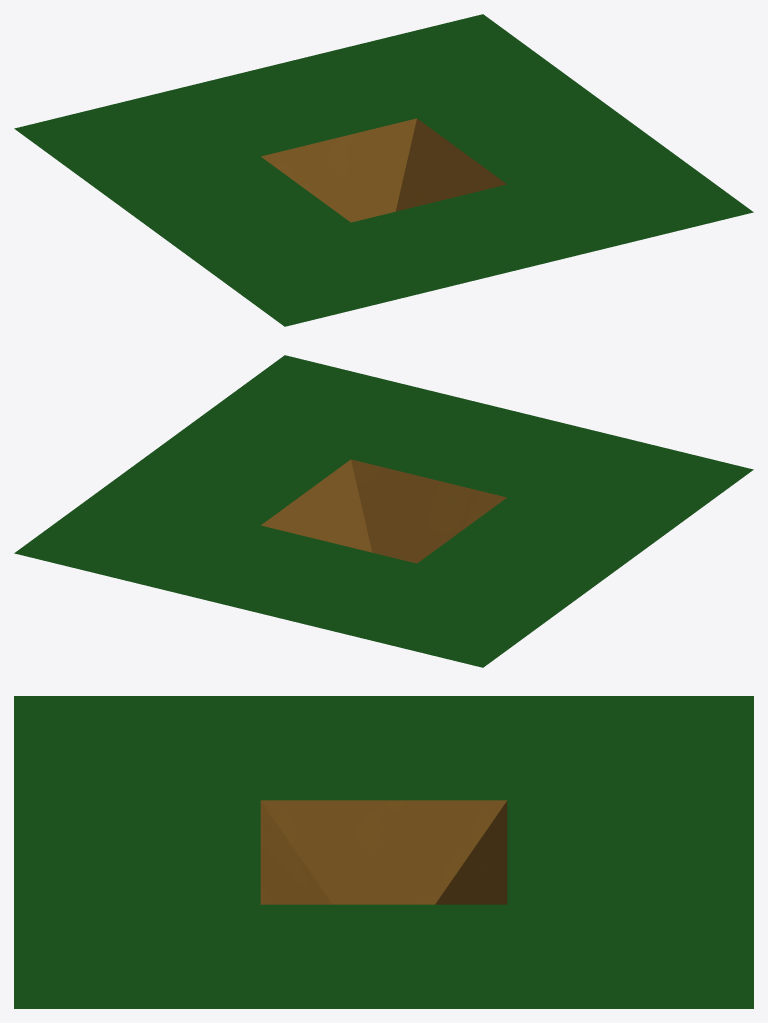
Rendered from trench0.glb.
3 renders of one model, top to bottom at view 1: azimuth 30°, elevation 25°; view 2: azimuth 150°, elevation 25°; view 3: azimuth 270°, elevation 25°, orthographic. The views are drawn at different scales.
Parts seen in each view (by area): view 1: Trench0; view 2: Trench0; view 3: Trench0.
Part boxes in pixels (x1,y1,x2,y2): Trench0: (14,14,753,326); Trench0: (14,355,753,667); Trench0: (14,696,753,1008).
Size of the model in its own units: 2 by 0.25 by 2.
Materials: 1 (1 with a texture image).
